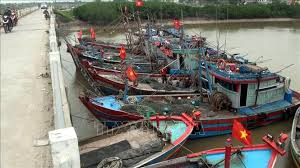tau_dansu: (83, 73, 300, 133), (82, 55, 245, 93), (64, 35, 213, 69)
